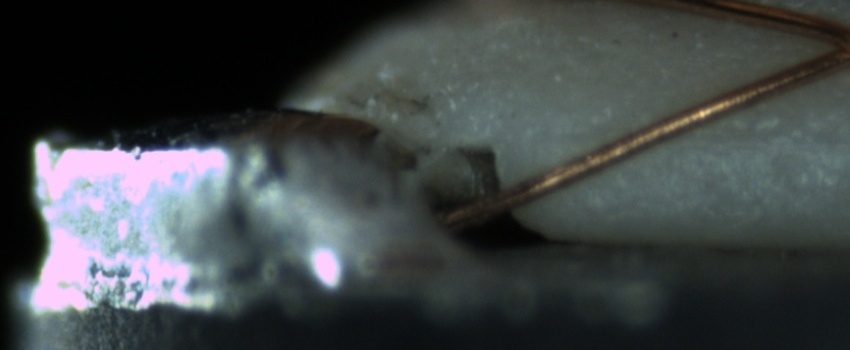CL: (801, 13, 850, 76)
DL: (553, 106, 847, 167)
